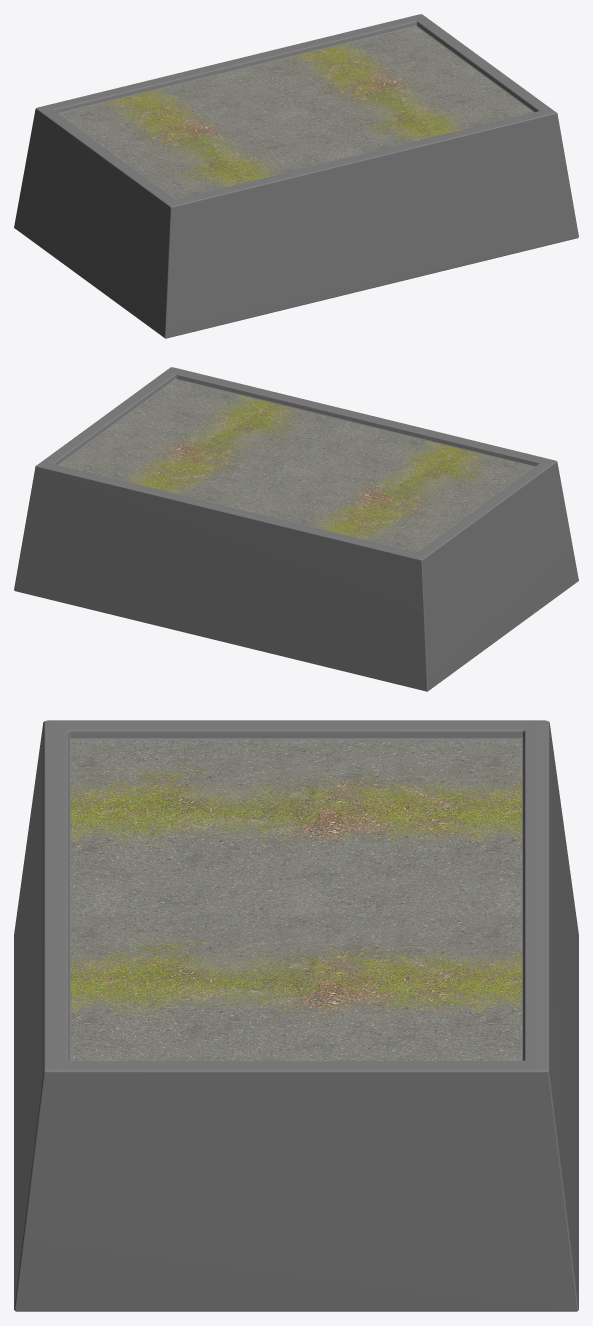
File: SM_platform_japan_01.fbx
3 views of the same model, one above another, from view 1: azimuth 30°, elevation 25°; view 2: azimuth 150°, elevation 25°; view 3: azimuth 270°, elevation 25° (orthographic). The views are drawn at different scales.
Parts seen in each view (by area): view 1: Box008; view 2: Box008; view 3: Box008.
Part boxes in pixels (bbox=[...]): Box008: bbox=[14, 14, 578, 338]; Box008: bbox=[14, 367, 578, 691]; Box008: bbox=[14, 720, 578, 1311].
Size of the model in its own units: 434 by 123 by 275.
